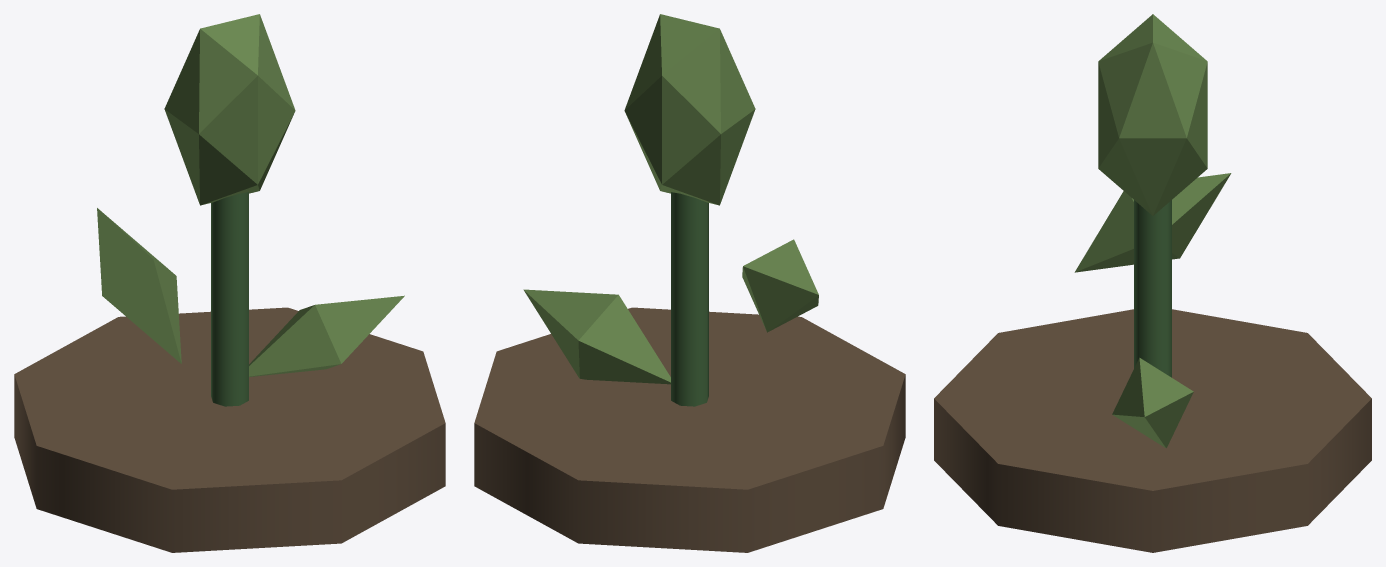
File: plant-moonflower-1.glb
3 renders of one model, left to right at view 1: azimuth 30°, elevation 25°; view 2: azimuth 150°, elevation 25°; view 3: azimuth 270°, elevation 25°, orthographic.
Visible parts, largest first — view 1: plant-moonflower-1-visual; view 2: plant-moonflower-1-visual; view 3: plant-moonflower-1-visual.
Part boxes in pixels (x1,y1,x2,y2): plant-moonflower-1-visual: (14,14,445,552); plant-moonflower-1-visual: (474,14,905,552); plant-moonflower-1-visual: (934,14,1371,552).
Bounding box in the file's own units: 0.32 × 0.3484 × 0.32.
